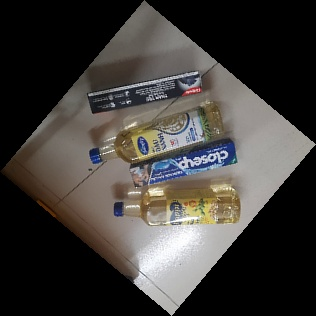CloseUp Tuyet: (129, 137, 238, 188)
Colgate Than: (87, 70, 203, 113)
Happy Soya: (113, 187, 241, 225)
Simply: (87, 100, 228, 164)
